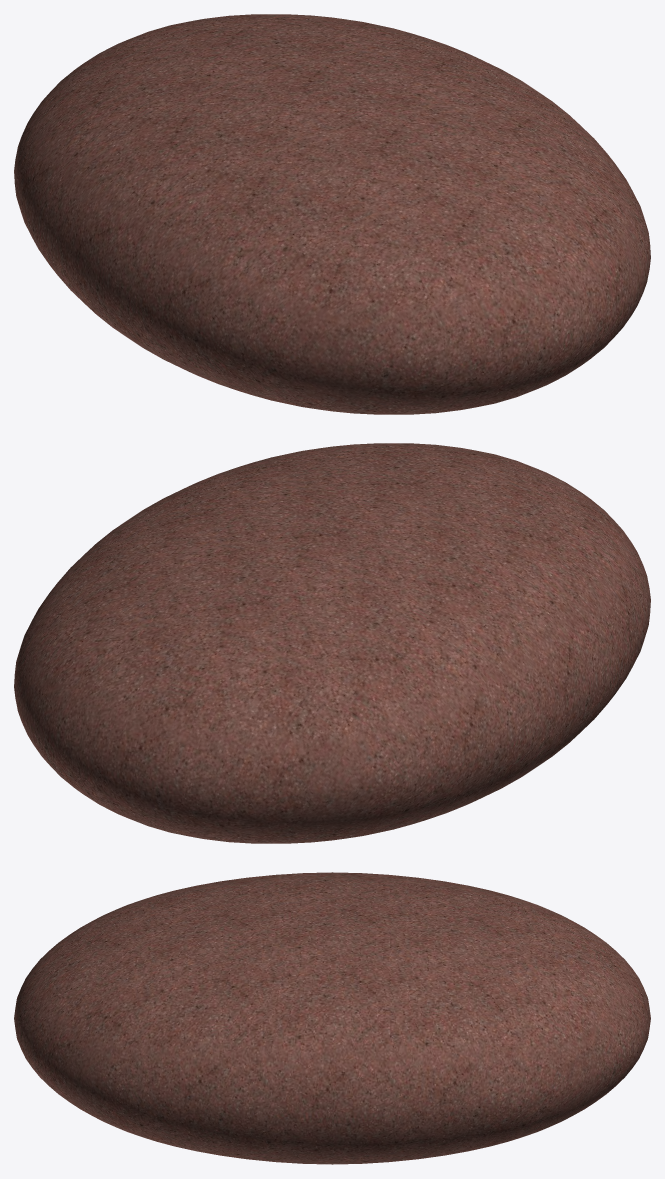
3 views of the same model, one above another, from view 1: azimuth 30°, elevation 25°; view 2: azimuth 150°, elevation 25°; view 3: azimuth 270°, elevation 25° (orthographic). The views are drawn at different scales.
Parts seen in each view (by area): view 1: pebble; view 2: pebble; view 3: pebble.
Part boxes in pixels (left/top/right/bottom): pebble: left=14, top=14, right=650, bottom=414; pebble: left=14, top=443, right=650, bottom=843; pebble: left=14, top=872, right=650, bottom=1164.
Size of the model in its own units: 0.1318 by 0.0628 by 0.1785.
1 material, 1 textured.
